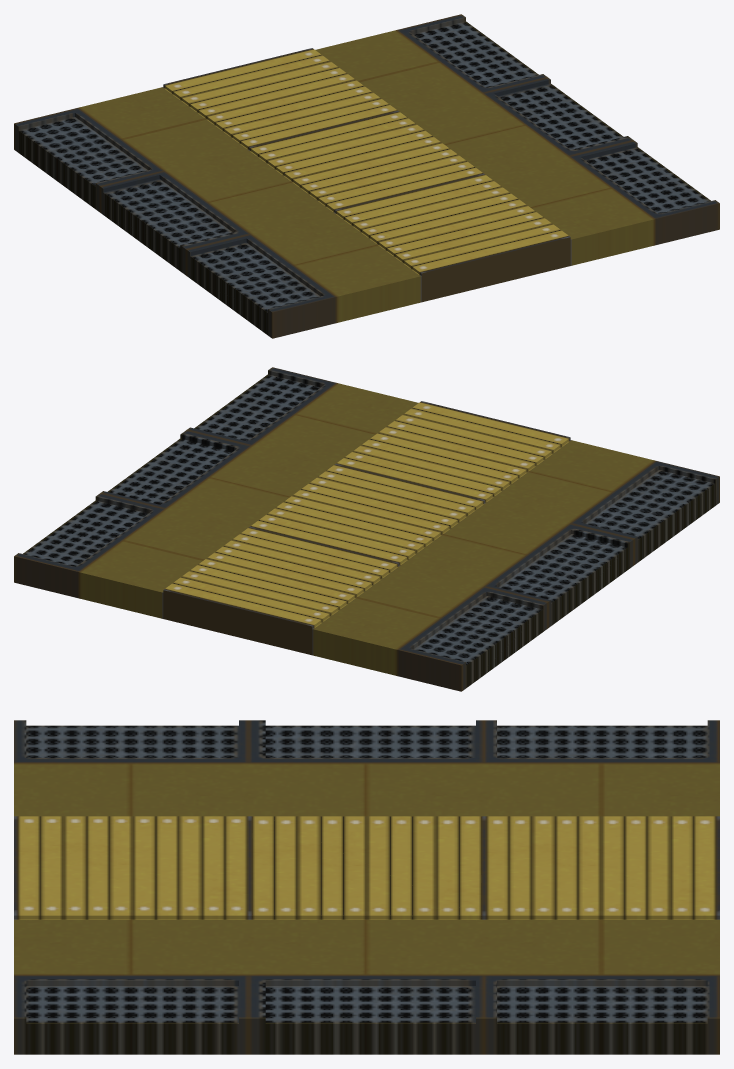
File: S_Floore03.fbx
3 views of the same model, one above another, from view 1: azimuth 30°, elevation 25°; view 2: azimuth 150°, elevation 25°; view 3: azimuth 270°, elevation 25° (orthographic). The views are drawn at different scales.
Parts seen in each view (by area): view 1: S_Floore03; view 2: S_Floore03; view 3: S_Floore03.
Part boxes in pixels (bbox=[...]): S_Floore03: bbox=[14, 14, 719, 338]; S_Floore03: bbox=[14, 367, 719, 691]; S_Floore03: bbox=[14, 720, 719, 1054].
Size of the model in its own units: 200 by 12.34 by 200.
